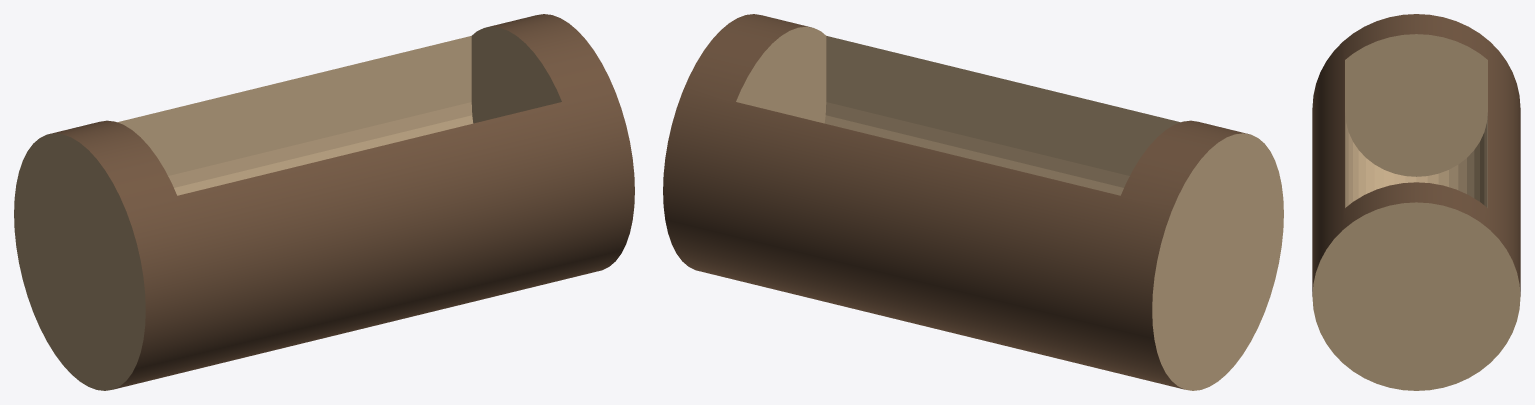
File: SM_RawLog_75_Trough.fbx
3 renders of one model, left to right at view 1: azimuth 30°, elevation 25°; view 2: azimuth 150°, elevation 25°; view 3: azimuth 270°, elevation 25°, orthographic. The views are drawn at different scales.
Parts seen in each view (by area): view 1: RawLog_75_Trough; view 2: RawLog_75_Trough; view 3: RawLog_75_Trough.
Part boxes in pixels (bbox=[...]): RawLog_75_Trough: bbox=[14, 14, 634, 390]; RawLog_75_Trough: bbox=[663, 14, 1283, 390]; RawLog_75_Trough: bbox=[1312, 14, 1520, 390].
Size of what is drawn, in the model's own units: 0.75 by 0.35 by 0.35.
